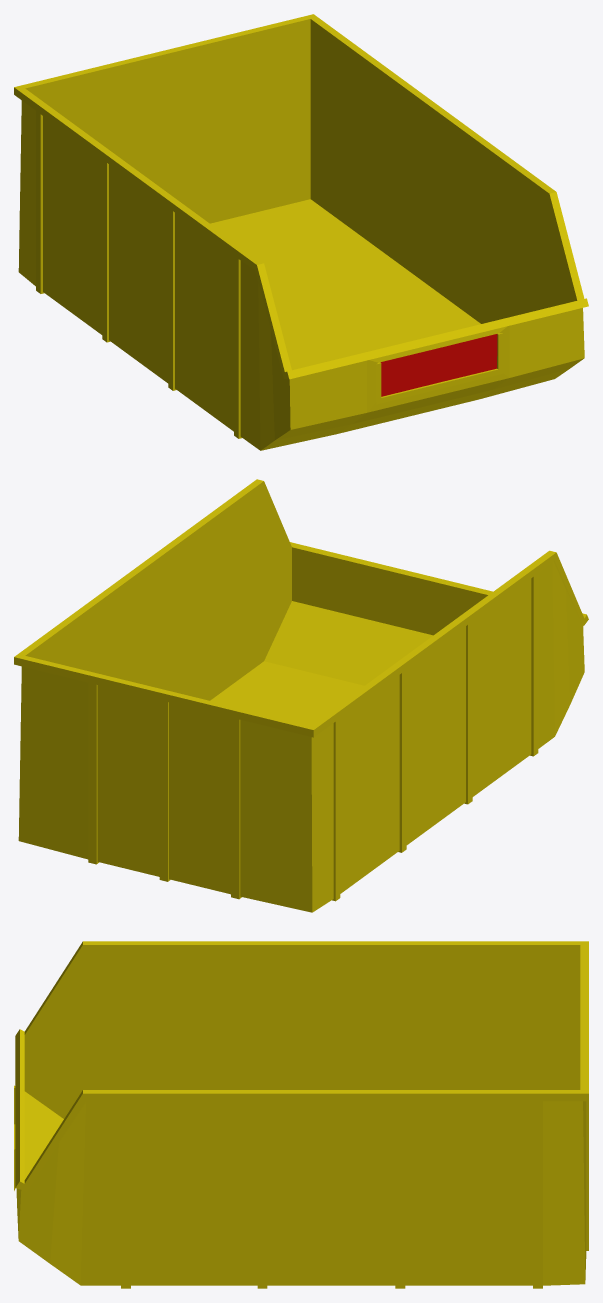
File: Stapelbak.fbx
3 views of the same model, one above another, from view 1: azimuth 30°, elevation 25°; view 2: azimuth 150°, elevation 25°; view 3: azimuth 270°, elevation 25° (orthographic). The views are drawn at different scales.
Parts seen in each view (by area): view 1: Stapelbak; view 2: Stapelbak; view 3: Stapelbak.
Part boxes in pixels (<box>): Stapelbak: <box>14,14,588,450</box>; Stapelbak: <box>14,479,588,912</box>; Stapelbak: <box>14,941,588,1288</box>.
Bounding box in the file's own units: 0.21 × 0.1257 × 0.3351.
